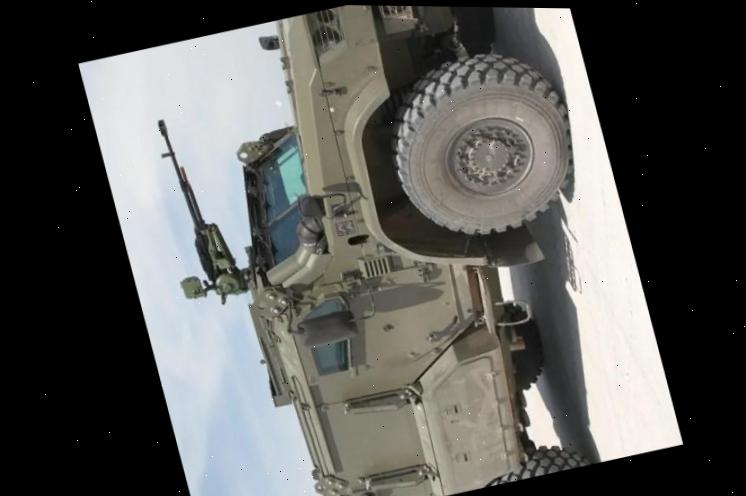armored_car: (108, 2, 653, 496)
